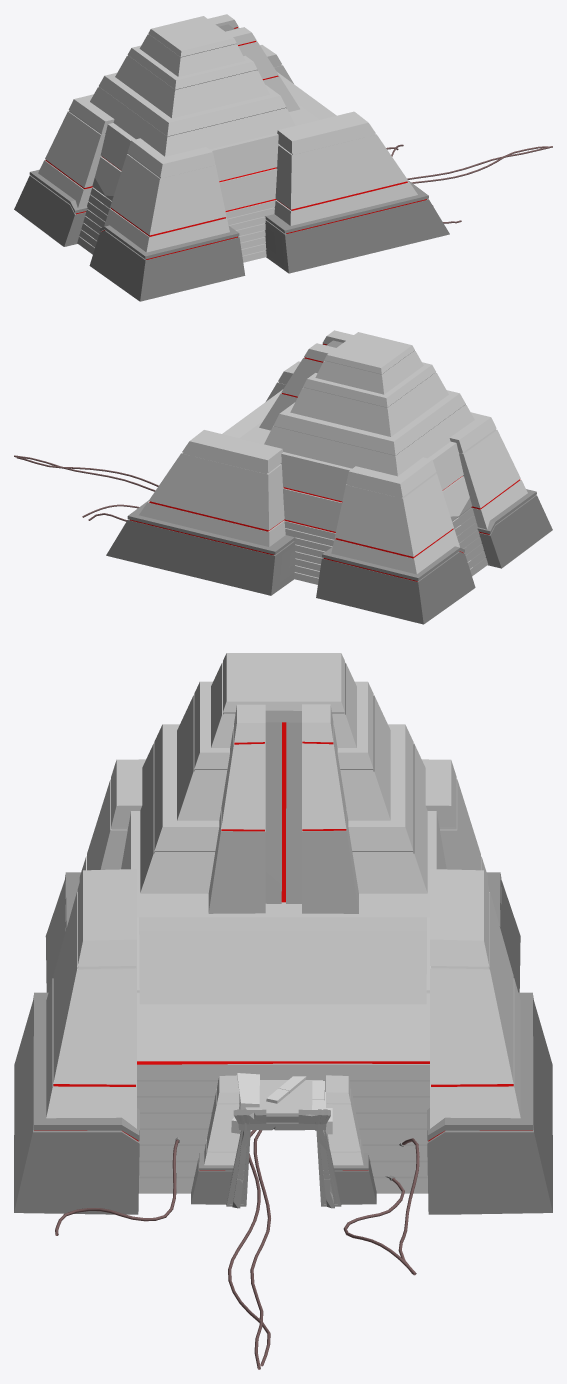
The model's file is SM_Memorial_Palace.fbx.
3 renders of one model, top to bottom at view 1: azimuth 30°, elevation 25°; view 2: azimuth 150°, elevation 25°; view 3: azimuth 270°, elevation 25°, orthographic. The views are drawn at different scales.
Visible parts, largest first — view 1: Cable; view 2: Cable; view 3: Cable.
Boxes of the visible parts, <box> form: Cable: <box>14,14,552,301</box>; Cable: <box>14,330,552,624</box>; Cable: <box>14,653,552,1369</box>.
Size of the model in its own units: 18.78 by 7.65 by 9.92.
